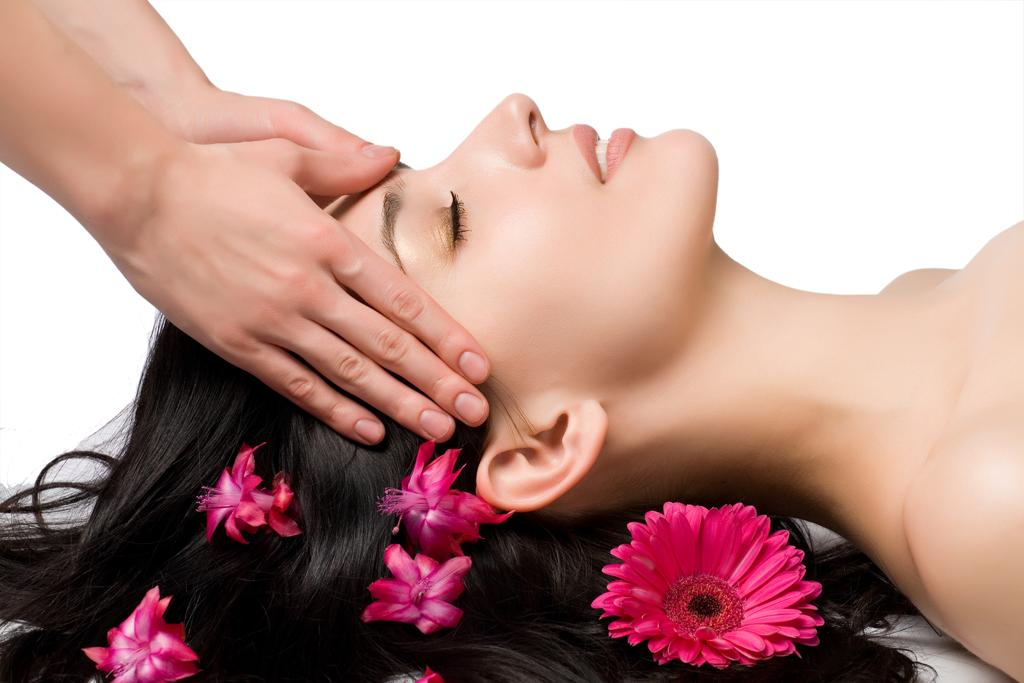face: (252, 84, 718, 340)
